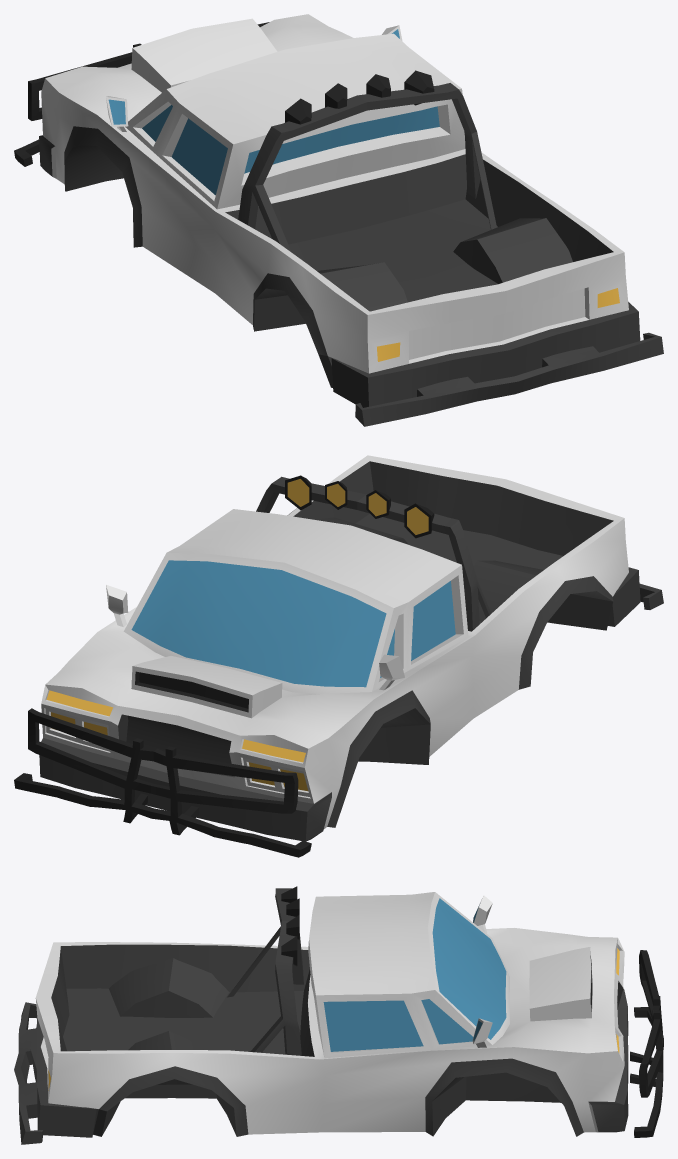
Rendered from truck_body3.glb.
3 renders of one model, top to bottom at view 1: azimuth 30°, elevation 25°; view 2: azimuth 150°, elevation 25°; view 3: azimuth 270°, elevation 25°, orthographic. The views are drawn at different scales.
Visible parts, largest first — view 1: truck_body; view 2: truck_body; view 3: truck_body.
Boxes of the visible parts, x1,y1,x2,y2 form: truck_body: (14, 14, 663, 426); truck_body: (14, 455, 663, 857); truck_body: (14, 886, 663, 1144).
Bounding box in the file's own units: 1.5 × 0.957 × 3.19.
1 material, 1 textured.
